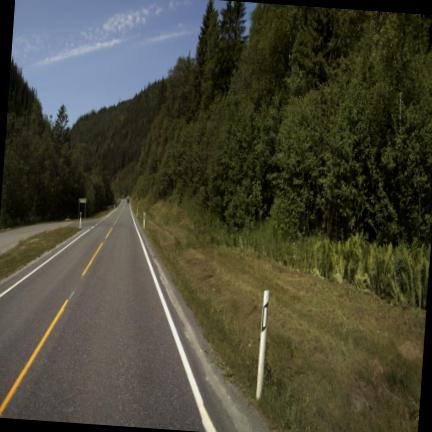Road: (0, 203, 267, 431)
